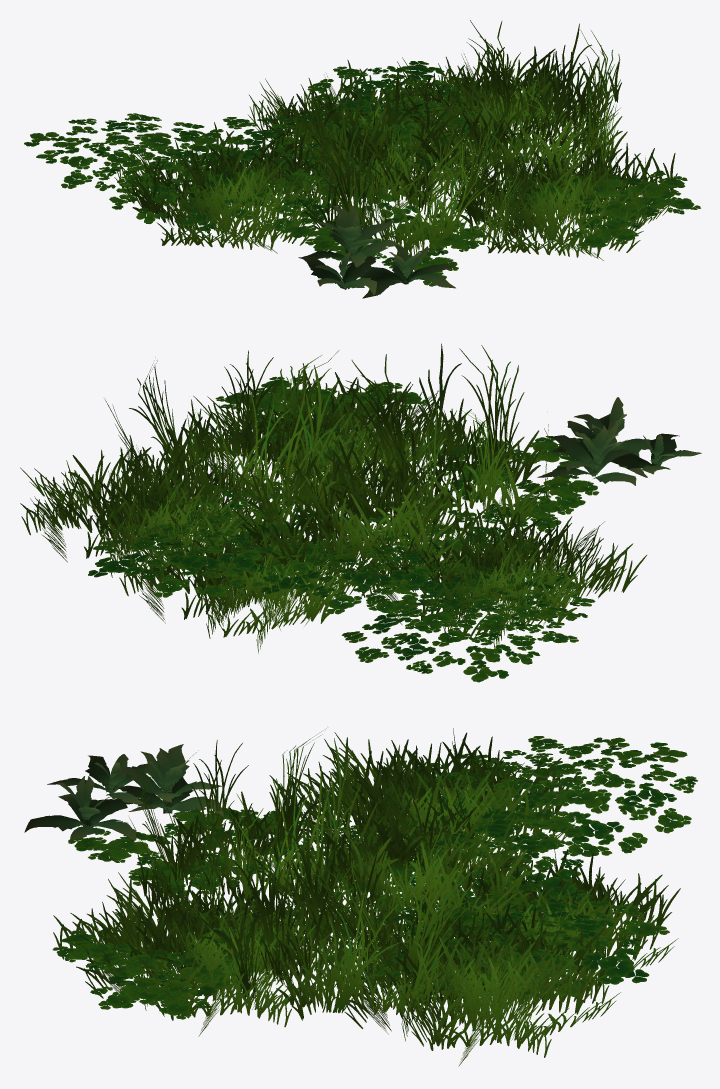
3 renders of one model, top to bottom at view 1: azimuth 30°, elevation 25°; view 2: azimuth 150°, elevation 25°; view 3: azimuth 270°, elevation 25°, orthographic. The views are drawn at different scales.
Visible parts, largest first — view 1: SM_BM_Weeds_02_LOD0; view 2: SM_BM_Weeds_02_LOD0; view 3: SM_BM_Weeds_02_LOD0.
Part boxes in pixels (bbox=[...]): SM_BM_Weeds_02_LOD0: bbox=[24, 20, 700, 298]; SM_BM_Weeds_02_LOD0: bbox=[20, 343, 701, 682]; SM_BM_Weeds_02_LOD0: bbox=[24, 728, 697, 1066].
Size of the model in its own units: 2.63 by 0.7173 by 2.4.
3 materials, 3 textured.
